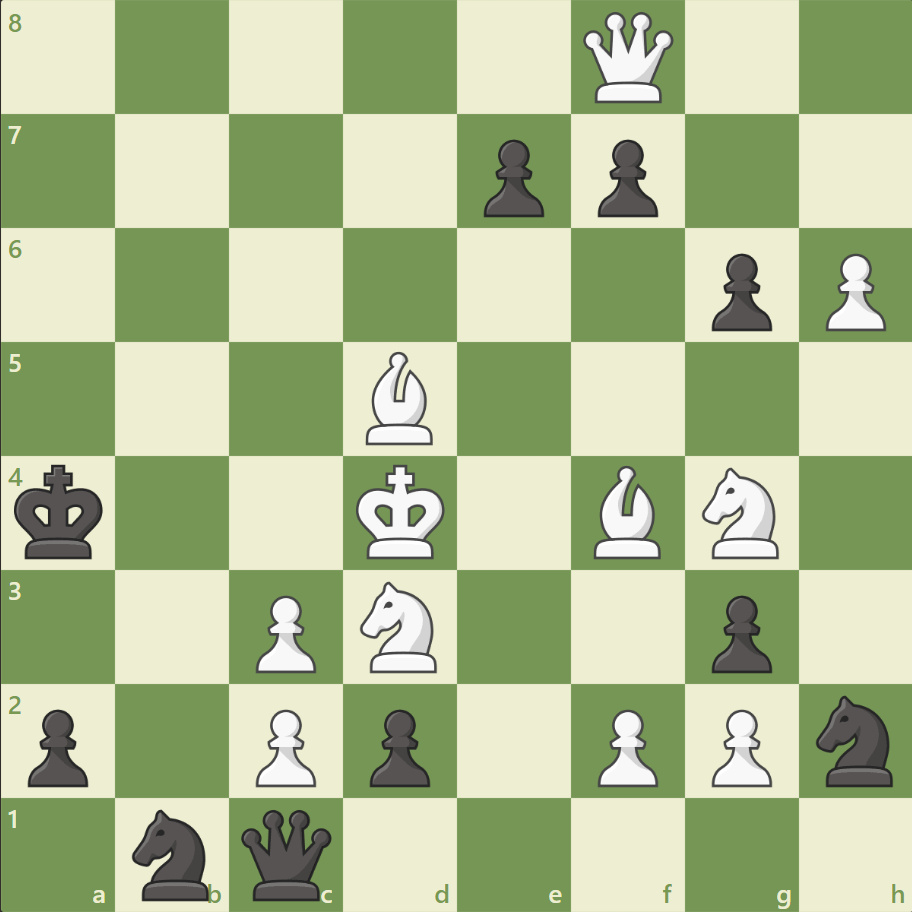B: (585, 460, 669, 563), (358, 347, 442, 449)
K: (351, 458, 451, 566)
N: (351, 575, 449, 677), (692, 461, 789, 564)
P: (247, 586, 322, 677), (247, 700, 322, 791), (701, 700, 776, 791), (815, 246, 889, 337), (588, 700, 662, 791)
Q: (578, 9, 677, 108)
k: (11, 458, 111, 566)
n: (124, 802, 222, 904), (806, 688, 903, 791)
p: (474, 132, 549, 223), (701, 246, 776, 337), (701, 586, 776, 677), (20, 700, 95, 791), (588, 132, 662, 223), (361, 700, 435, 791)
q: (237, 804, 336, 903)
